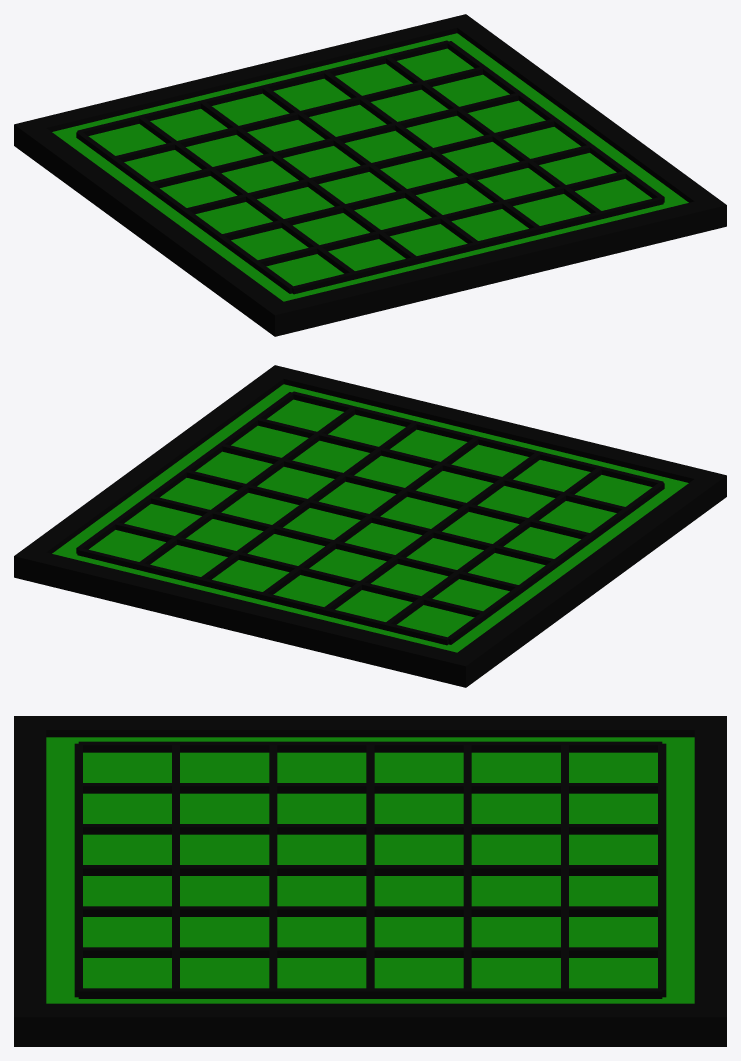
The model's file is oseroban.fbx.
3 renders of one model, top to bottom at view 1: azimuth 30°, elevation 25°; view 2: azimuth 150°, elevation 25°; view 3: azimuth 270°, elevation 25°, orthographic. The views are drawn at different scales.
Visible parts, largest first — view 1: Cube; view 2: Cube; view 3: Cube.
Boxes of the visible parts, x1,y1,x2,y2 form: Cube: [14, 14, 726, 336]; Cube: [14, 365, 726, 687]; Cube: [14, 716, 726, 1046].
Size of the model in its own units: 4400 by 200 by 4400.
